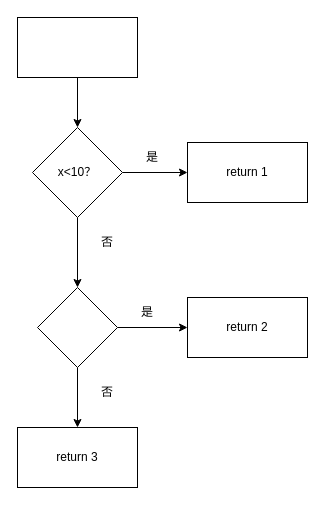
The diagram is 325 pixels wide and 505 high, and some of its shapes have lost their labels. The shapes that lost their labels are listed below. From the top down, each one's box as (x1, y1, x2, y2) in pixels, then its label:
(16, 16, 138, 78): 开始
(36, 286, 118, 368): x<20?
